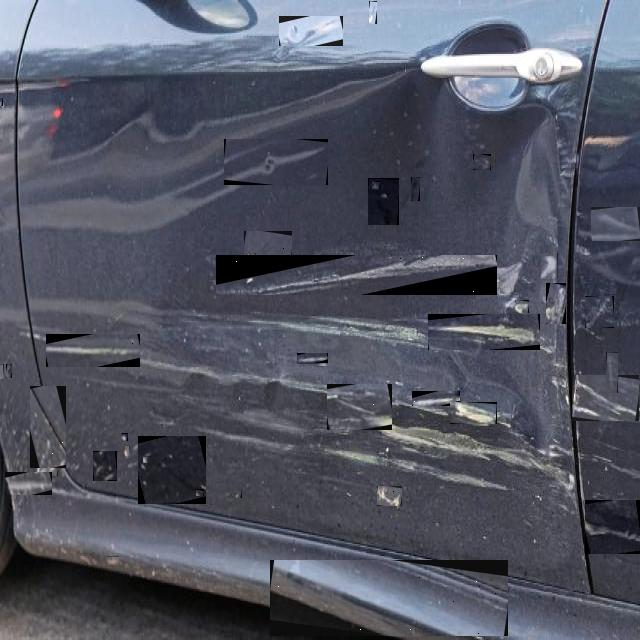Dent: (270, 560, 508, 636), (216, 255, 497, 295), (224, 140, 328, 188), (138, 436, 206, 504), (428, 314, 540, 350), (46, 334, 140, 367), (572, 375, 639, 421), (327, 384, 392, 430), (585, 500, 640, 554), (30, 386, 66, 468), (279, 16, 343, 46), (244, 231, 292, 268), (591, 207, 640, 241), (368, 178, 399, 225), (5, 472, 52, 495), (450, 402, 497, 424), (585, 296, 614, 328), (546, 283, 566, 324), (93, 451, 117, 481), (412, 391, 460, 406), (377, 486, 402, 506), (606, 352, 618, 393), (541, 253, 558, 279), (38, 456, 58, 476), (297, 354, 328, 366), (473, 154, 491, 170), (411, 177, 420, 201), (369, 1, 377, 24), (515, 300, 529, 313), (107, 556, 119, 565), (473, 630, 485, 637), (6, 364, 12, 378), (372, 181, 380, 189), (0, 364, 4, 379), (382, 190, 389, 198), (196, 489, 204, 496), (249, 253, 256, 261), (125, 446, 130, 456), (122, 433, 128, 441), (295, 20, 300, 28), (237, 490, 242, 498), (143, 456, 148, 463), (0, 98, 3, 106)
